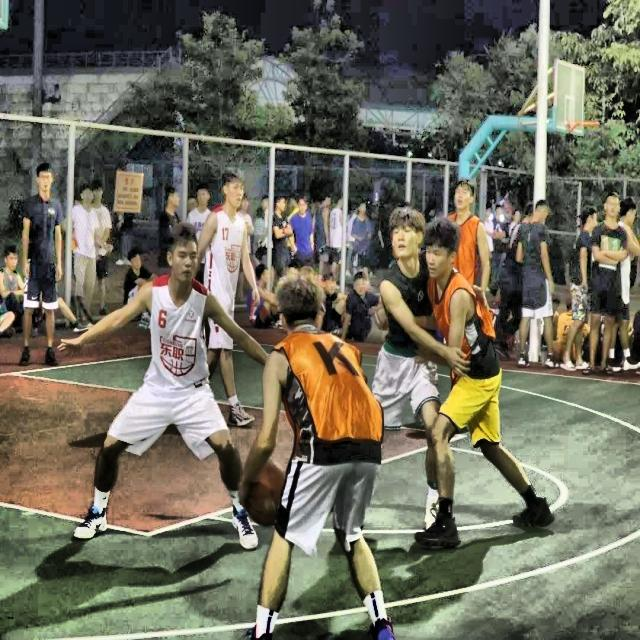board: (243, 462, 286, 526)
